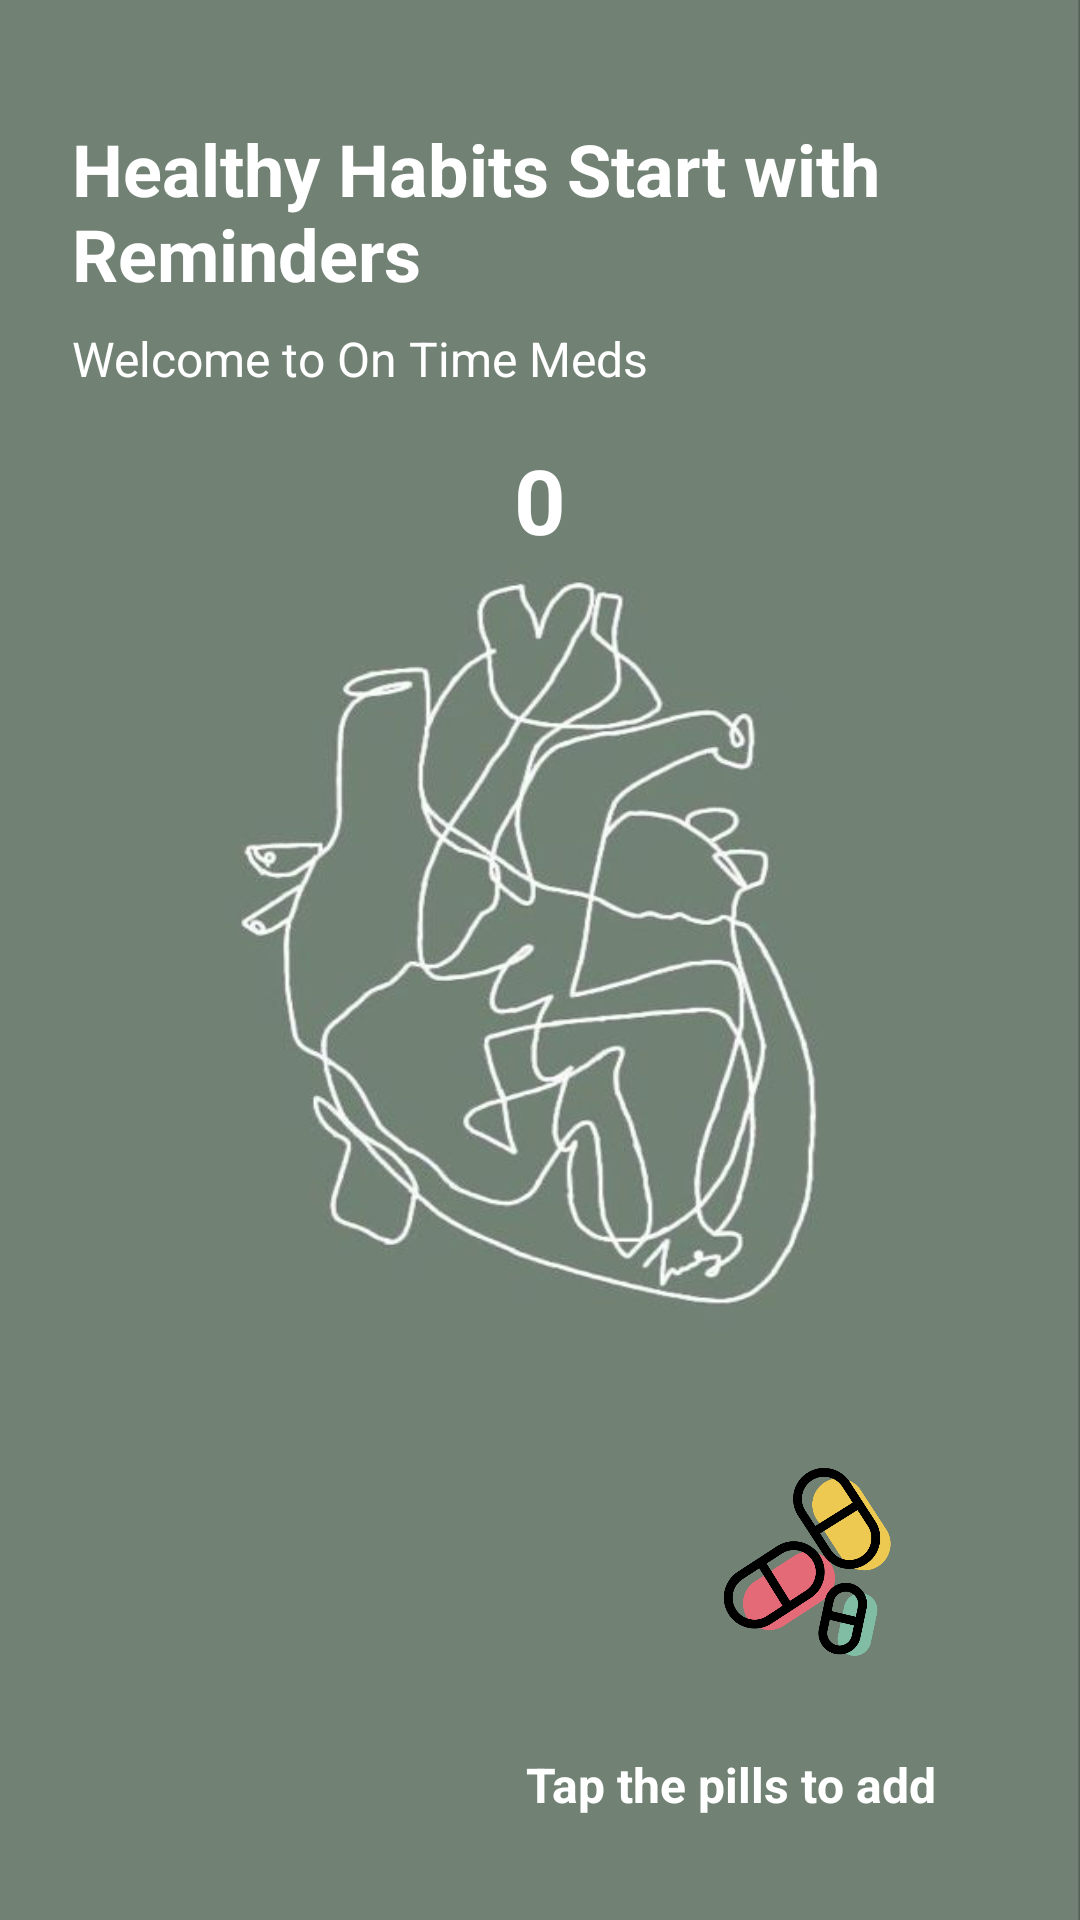

Icon click points for this 1080px x 1920px phone screenshot, format (x,y):
pillsimg: (807,1562)
